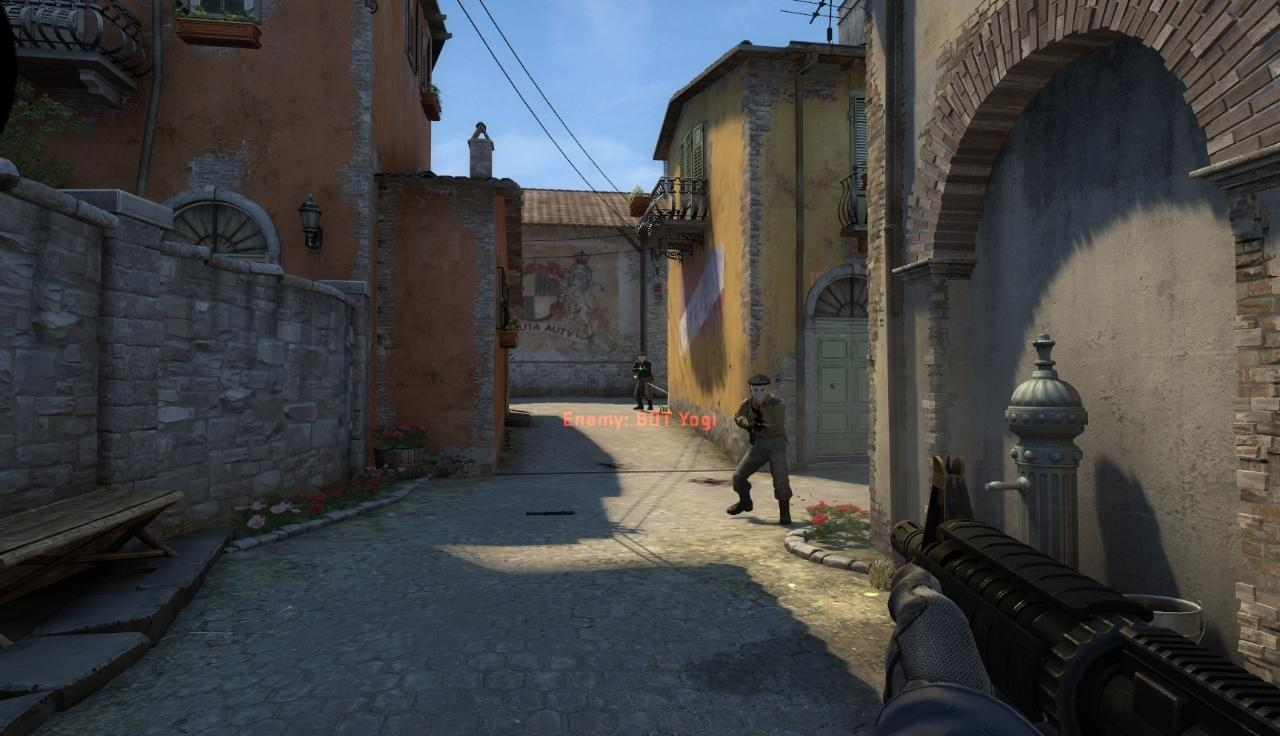rifle: (895, 457, 1280, 736)
tt: (739, 374, 791, 521), (635, 353, 652, 410)
tthead: (750, 376, 769, 403), (638, 354, 646, 363)
